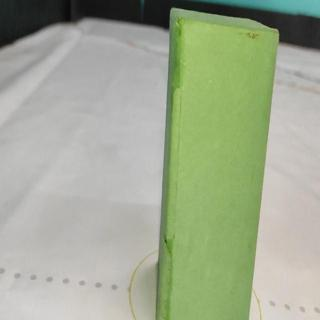greenbox: (164, 7, 279, 320)
